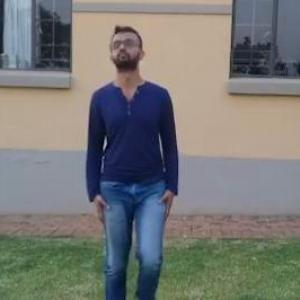follow: (76, 11, 182, 299)
